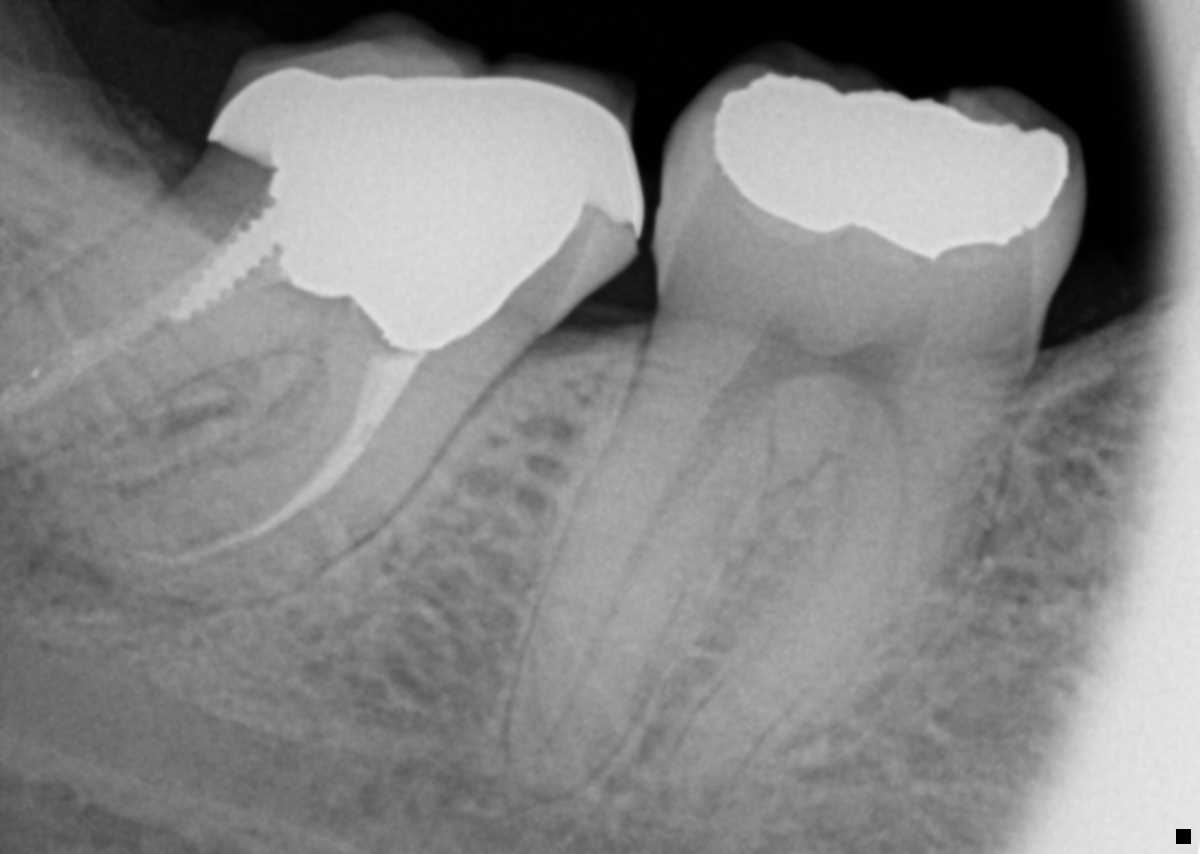Apical Lesion: (21, 512, 198, 630)
Distal Canal: (536, 409, 745, 760)
Distal Root: (503, 379, 827, 799), (0, 189, 284, 464)
Mesial Canal: (879, 466, 914, 585)
Mesial Root: (670, 453, 1000, 812), (87, 349, 483, 611)
